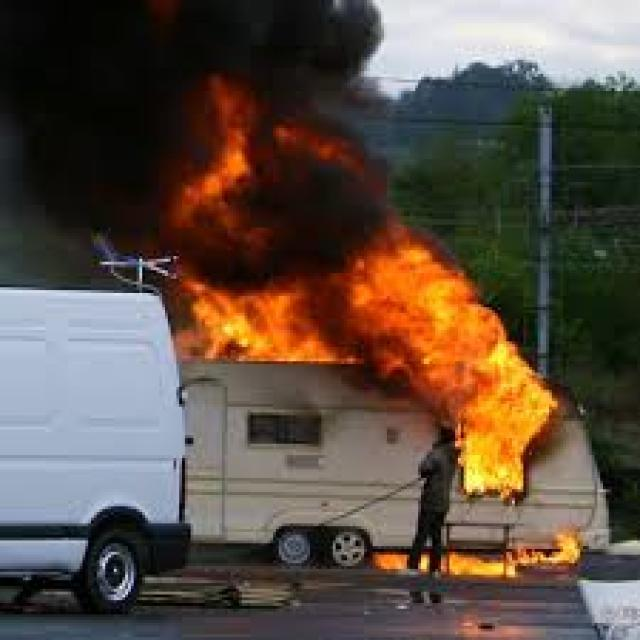Fire: (0, 1, 383, 110), (404, 244, 540, 504), (174, 253, 398, 366), (372, 528, 583, 574)
